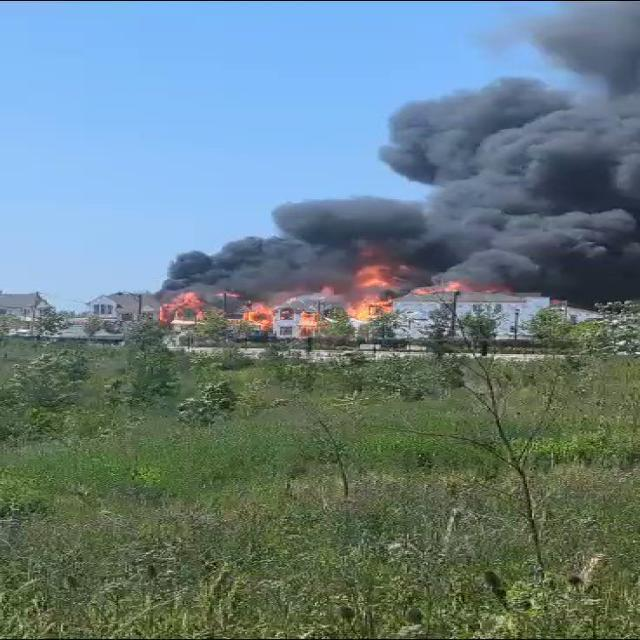Fire: (156, 240, 524, 350)
Smoke: (402, 82, 640, 292), (256, 197, 480, 280), (510, 7, 640, 135)
